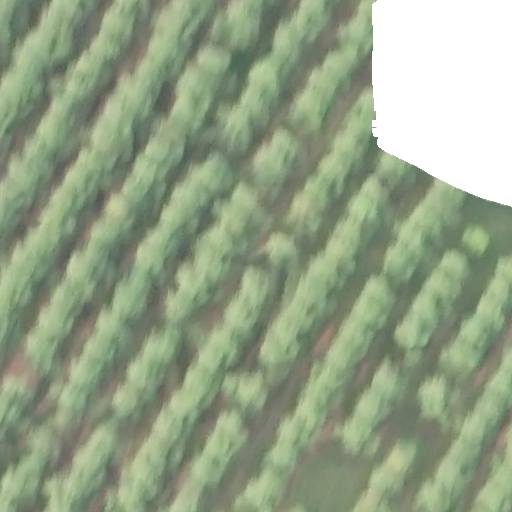eucalipto: (24, 22, 76, 60), (185, 152, 232, 194), (35, 115, 78, 158), (375, 152, 418, 194), (196, 333, 242, 372), (2, 462, 41, 506), (43, 475, 89, 512), (71, 57, 115, 95), (397, 216, 436, 258), (13, 244, 50, 288), (20, 138, 56, 183), (222, 106, 254, 156), (261, 328, 301, 368), (118, 76, 155, 119), (50, 95, 96, 129), (226, 375, 267, 413), (116, 269, 159, 305), (417, 377, 453, 420), (291, 85, 326, 129), (11, 51, 56, 85), (92, 123, 132, 161), (413, 479, 459, 512), (79, 150, 116, 191), (357, 276, 398, 313), (9, 158, 43, 202), (438, 343, 482, 377), (3, 80, 48, 113), (288, 192, 325, 232), (340, 417, 376, 458), (247, 469, 281, 512), (245, 62, 280, 103), (220, 306, 261, 341), (174, 269, 212, 306), (413, 201, 450, 239), (435, 456, 474, 492), (252, 150, 287, 190), (239, 266, 273, 307), (241, 86, 271, 132), (272, 23, 302, 69), (345, 300, 388, 332), (382, 245, 418, 283), (281, 299, 316, 338), (1, 182, 27, 234), (270, 131, 302, 173), (132, 247, 168, 284), (126, 363, 161, 401), (67, 166, 101, 205), (175, 69, 216, 101), (313, 356, 355, 387), (324, 239, 360, 275), (371, 365, 405, 403), (316, 156, 349, 195), (333, 132, 366, 171), (172, 188, 212, 220), (106, 96, 141, 132), (112, 284, 147, 320), (70, 453, 105, 489), (221, 200, 256, 236), (335, 216, 371, 251), (275, 415, 312, 449), (356, 393, 393, 427), (394, 317, 432, 350), (2, 272, 34, 311), (201, 231, 247, 258), (28, 227, 68, 258), (349, 194, 384, 229), (100, 12, 136, 46), (286, 12, 320, 48), (140, 332, 177, 365), (121, 468, 158, 501), (386, 438, 423, 471), (132, 444, 166, 479), (183, 369, 217, 404), (426, 267, 461, 301), (30, 428, 63, 464), (70, 357, 107, 389), (360, 176, 392, 213), (461, 417, 498, 449), (148, 133, 186, 164), (47, 191, 89, 219), (194, 251, 228, 285), (44, 205, 79, 238), (412, 290, 445, 325), (472, 296, 505, 331), (87, 425, 119, 461), (161, 206, 198, 237), (457, 320, 494, 351), (171, 99, 210, 128), (153, 416, 186, 450), (439, 249, 473, 282), (472, 391, 506, 424), (301, 174, 336, 206), (308, 259, 340, 294), (192, 454, 224, 489), (38, 309, 74, 340), (266, 231, 297, 267), (342, 111, 371, 149), (150, 38, 184, 70), (50, 287, 84, 319), (341, 322, 375, 354), (111, 386, 142, 421), (165, 393, 201, 423), (135, 149, 173, 177), (349, 488, 393, 512), (123, 172, 157, 203), (261, 446, 295, 477), (448, 442, 483, 472), (96, 309, 133, 337), (369, 466, 406, 493), (307, 66, 339, 97), (89, 36, 124, 64), (82, 338, 119, 364), (216, 413, 247, 444), (92, 220, 124, 250), (198, 47, 232, 75), (146, 229, 184, 254), (158, 117, 190, 146), (68, 254, 97, 286), (110, 1, 152, 23), (321, 50, 354, 78), (301, 380, 335, 407), (230, 23, 262, 51), (295, 401, 327, 429), (480, 484, 512, 512), (56, 388, 89, 415), (24, 324, 61, 348), (50, 413, 80, 442), (462, 227, 492, 256), (485, 371, 512, 403), (203, 434, 232, 463), (105, 194, 133, 224), (117, 485, 148, 512), (486, 276, 512, 308), (326, 346, 362, 369), (166, 295, 195, 322), (86, 240, 110, 267), (493, 254, 512, 282)
